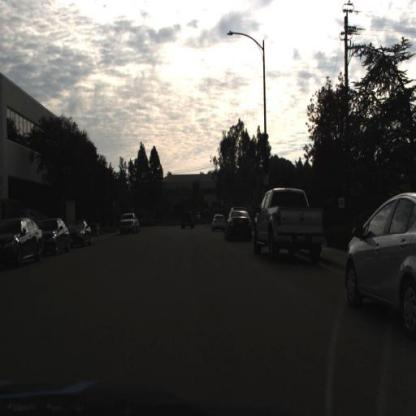car: (344, 191, 416, 335), (253, 186, 324, 264), (2, 216, 45, 267), (40, 218, 74, 259), (41, 218, 70, 260), (226, 208, 254, 242), (65, 219, 92, 251), (224, 210, 251, 242), (71, 220, 94, 251), (120, 211, 141, 237), (181, 209, 196, 234), (212, 213, 229, 234)
